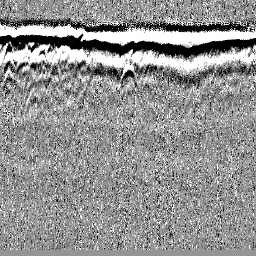cavity: (120, 62, 139, 87)
